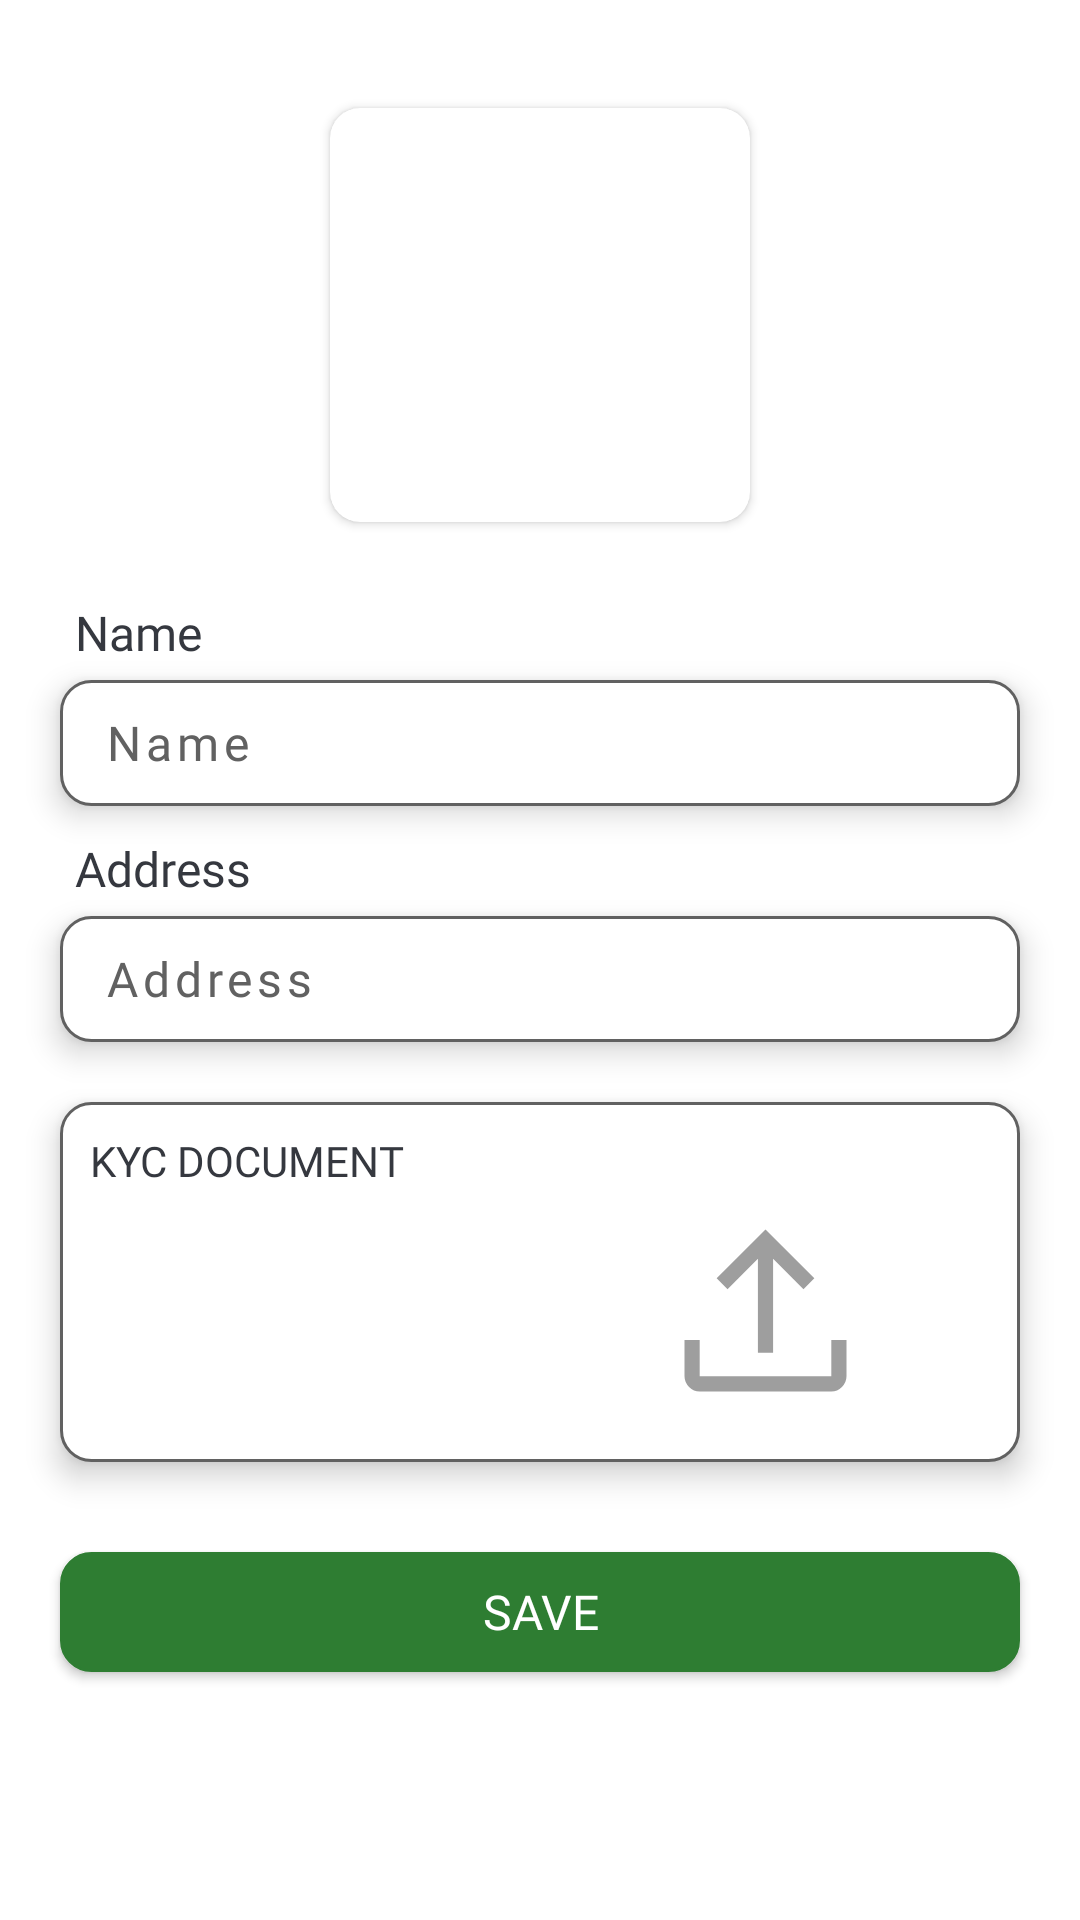

Point at icon controls on the screen. Image size 1080×1920, points as (x,y).
upload: (765,1310)
